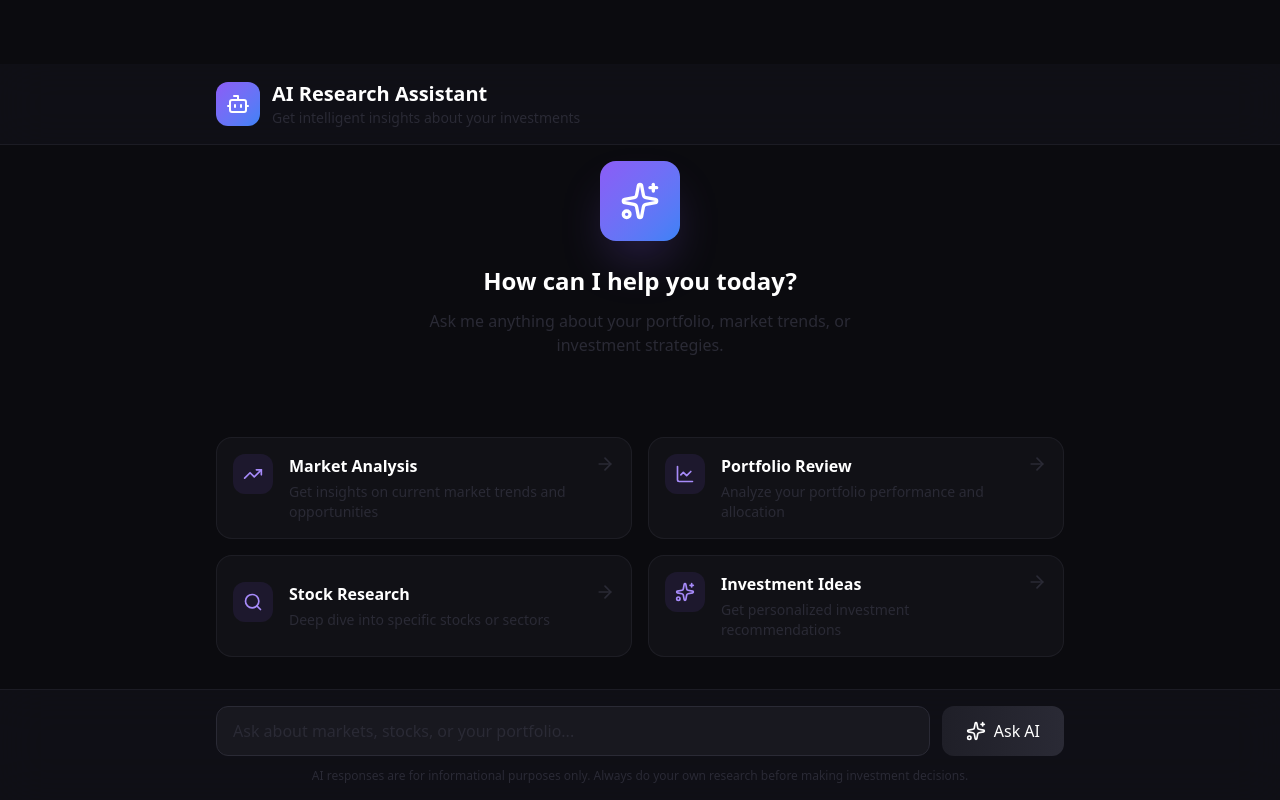
it: AIResearchPage › Input Area › enables submit button when input has text
Type "Test query" into the field with placeholder "Ask about markets, stocks, or your portfolio...".
click(573, 731); type("Test query")  # box x1=216 y1=706 x2=930 y2=756
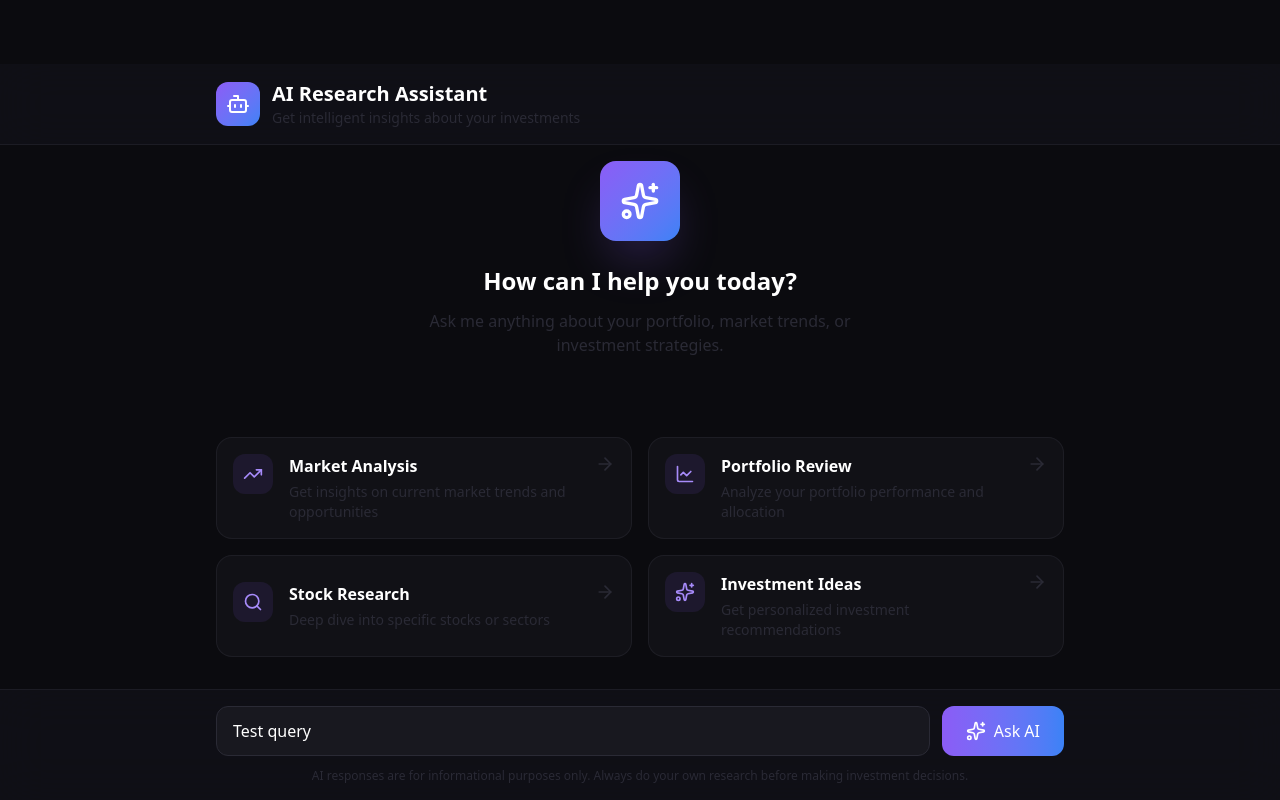
Expected: the button "Ask AI" is enabled, x1=942 y1=706 x2=1064 y2=756
